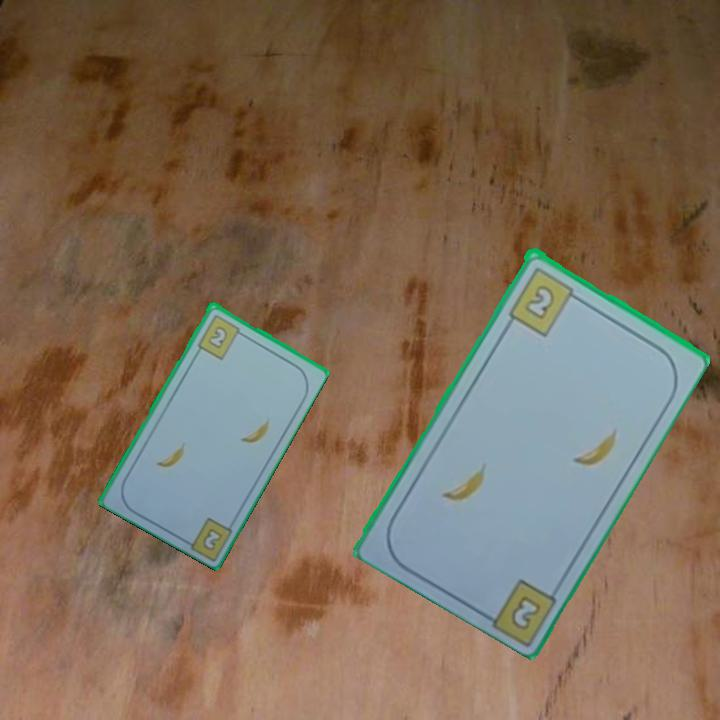2b: (505, 262, 583, 339), (194, 311, 247, 362), (506, 591, 544, 633), (199, 524, 225, 551)
